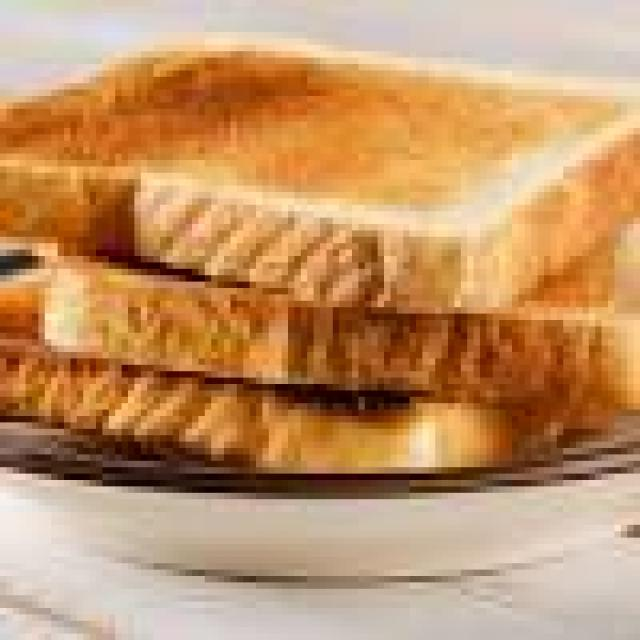Bread: (0, 49, 640, 309)
